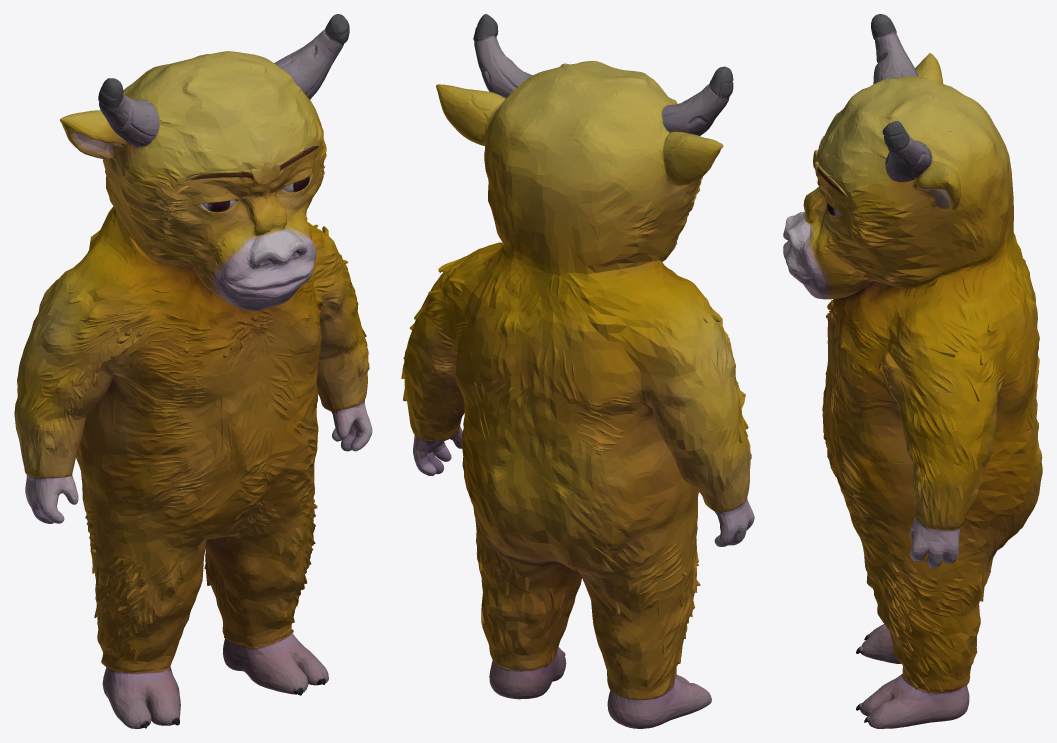
Rendered from niulai.glb.
The picture shows the model from 3 angles, left to right: view 1: azimuth 30°, elevation 25°; view 2: azimuth 150°, elevation 25°; view 3: azimuth 270°, elevation 25°; orthographic projection. The views are drawn at different scales.
Parts seen in each view (by area): view 1: tripo_node_5d6d99e8-5846-435f-8b62-ba0cdc293e08; view 2: tripo_node_5d6d99e8-5846-435f-8b62-ba0cdc293e08; view 3: tripo_node_5d6d99e8-5846-435f-8b62-ba0cdc293e08.
Part boxes in pixels (x1=…): tripo_node_5d6d99e8-5846-435f-8b62-ba0cdc293e08: x1=14, y1=14, x2=372, y2=728; tripo_node_5d6d99e8-5846-435f-8b62-ba0cdc293e08: x1=401, y1=14, x2=754, y2=728; tripo_node_5d6d99e8-5846-435f-8b62-ba0cdc293e08: x1=783, y1=14, x2=1042, y2=728.
Size of the model in its own units: 0.5318 by 0.9786 by 0.3718.
Materials: 1 (1 with a texture image).
